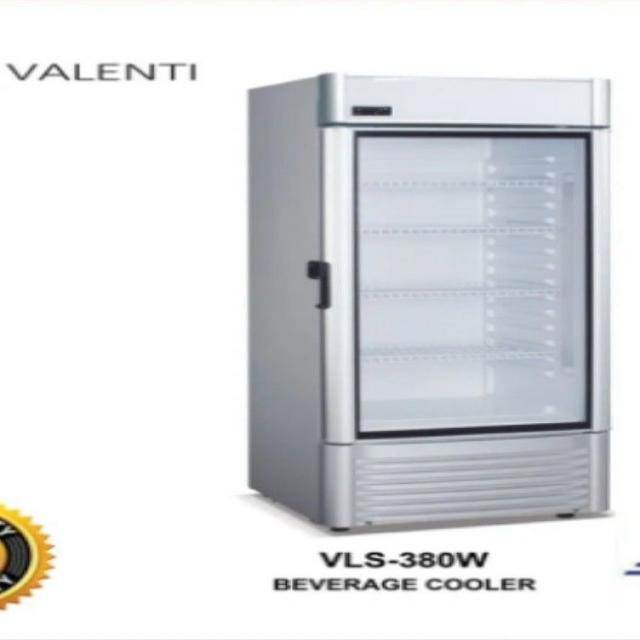refrigerator: (314, 72, 616, 535)
